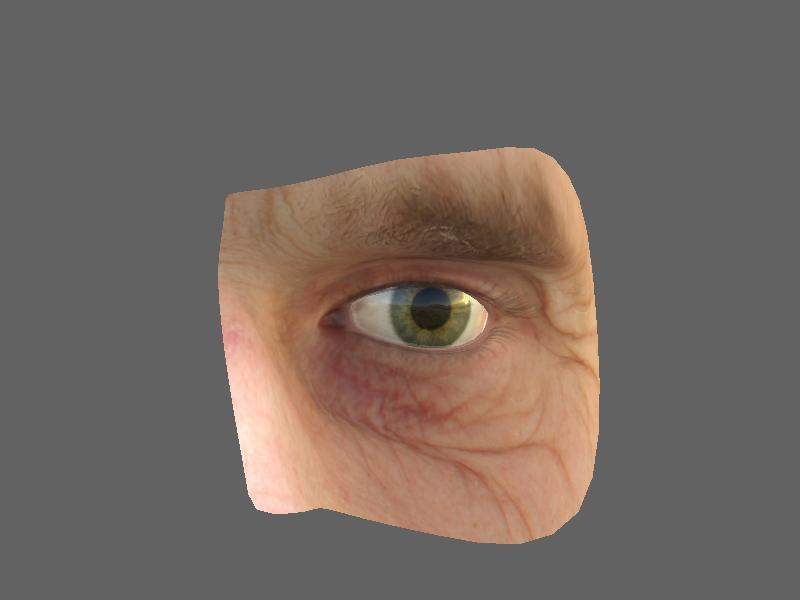iris: (387, 283, 481, 347)
